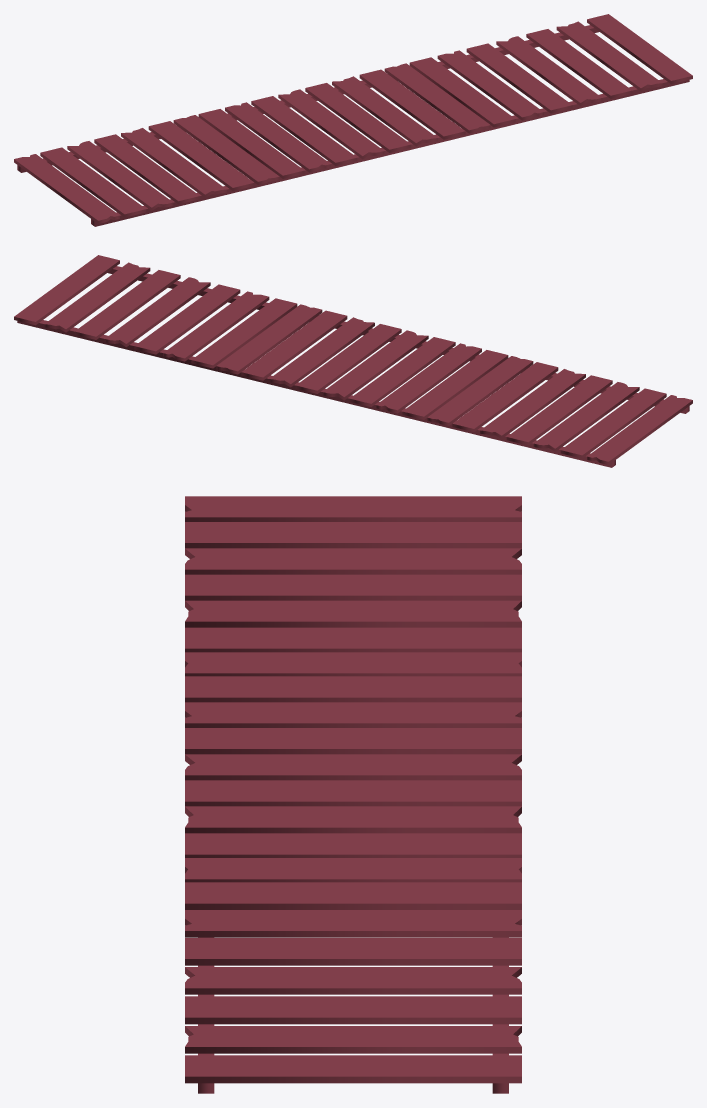
The model's file is pontecurta.fbx.
The picture shows the model from 3 angles, top to bottom: view 1: azimuth 30°, elevation 25°; view 2: azimuth 150°, elevation 25°; view 3: azimuth 270°, elevation 25°; orthographic projection. The views are drawn at different scales.
Visible parts, largest first — view 1: pontecurta; view 2: pontecurta; view 3: pontecurta.
Boxes of the visible parts, box(x1,y1,x2,y2) form: pontecurta: box(14, 14, 692, 226); pontecurta: box(14, 255, 692, 467); pontecurta: box(185, 496, 521, 1093).
Size of the model in its own units: 1001 by 13.77 by 246.
